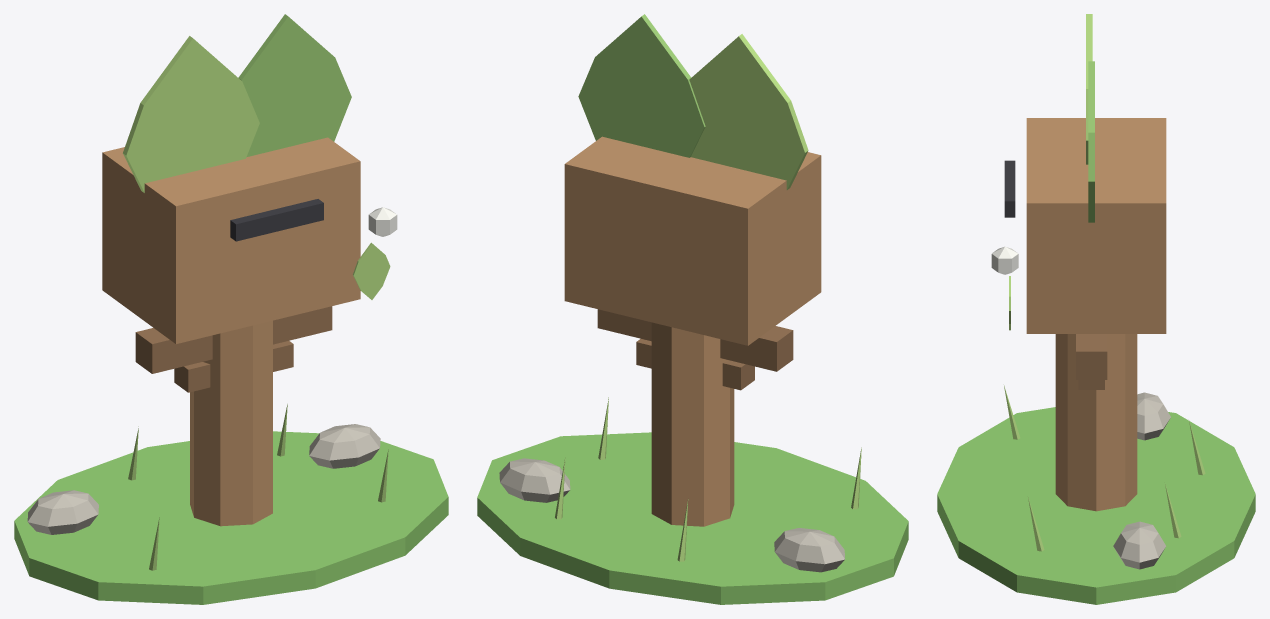
3 renders of one model, left to right at view 1: azimuth 30°, elevation 25°; view 2: azimuth 150°, elevation 25°; view 3: azimuth 270°, elevation 25°, orthographic. The views are drawn at different scales.
Parts seen in each view (by area): view 1: round grass base, warm wood leaf mailbox body, short rounded wooden post, left upright leaf roof, right upright leaf roof, chunky cross support, small rock, small rock.001, wide black slot, small lower brace, front vine leaf charm, single white flower dot; view 2: round grass base, warm wood leaf mailbox body, short rounded wooden post, right upright leaf roof, left upright leaf roof, chunky cross support, small rock.001, small rock, small lower brace; view 3: round grass base, warm wood leaf mailbox body, short rounded wooden post, small rock, chunky cross support, small rock.001, right upright leaf roof, wide black slot, left upright leaf roof, single white flower dot.
Boxes of the visible parts, left/top/right/bottom form: round grass base: left=14, top=431, right=448, bottom=604; warm wood leaf mailbox body: left=102, top=137, right=360, bottom=343; short rounded wooden post: left=190, top=320, right=272, bottom=526; left upright leaf roof: left=123, top=36, right=259, bottom=192; right upright leaf roof: left=238, top=14, right=351, bottom=156; chunky cross support: left=135, top=306, right=332, bottom=373; small rock: left=309, top=424, right=380, bottom=468; small rock.001: left=27, top=490, right=98, bottom=534; wide black slot: left=230, top=199, right=323, bottom=241; small lower brace: left=174, top=341, right=293, bottom=392; front vine leaf charm: left=353, top=242, right=390, bottom=299; single white flower dot: left=368, top=207, right=397, bottom=236; round grass base: left=477, top=432, right=908, bottom=604; warm wood leaf mailbox body: left=564, top=136, right=821, bottom=345; short rounded wooden post: left=651, top=322, right=734, bottom=526; right upright leaf roof: left=578, top=14, right=705, bottom=157; left upright leaf roof: left=689, top=34, right=808, bottom=189; chunky cross support: left=597, top=309, right=793, bottom=371; small rock.001: left=774, top=528, right=845, bottom=572; small rock: left=499, top=458, right=570, bottom=502; small lower brace: left=636, top=339, right=754, bottom=390; round grass base: left=937, top=407, right=1255, bottom=604; warm wood leaf mailbox body: left=1026, top=118, right=1166, bottom=333; short rounded wooden post: left=1055, top=334, right=1137, bottom=511; small rock: left=1113, top=521, right=1165, bottom=569; chunky cross support: left=1076, top=334, right=1107, bottom=379; small rock.001: left=1137, top=392, right=1170, bottom=440; right upright leaf roof: left=1088, top=61, right=1094, bottom=222; wide black slot: left=1004, top=160, right=1015, bottom=217; left upright leaf roof: left=1086, top=14, right=1092, bottom=164; single white flower dot: left=991, top=246, right=1018, bottom=274.
Bounding box in the file's own units: 1.84 × 2.2 × 1.32.
